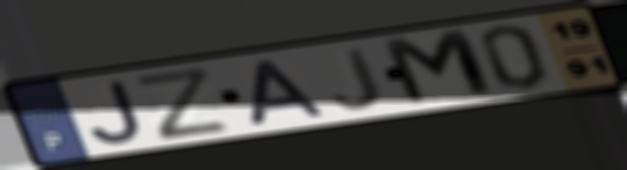0: (477, 22, 554, 92)
A: (246, 57, 331, 128)
J: (86, 78, 148, 146), (329, 45, 385, 112)
M: (377, 26, 503, 110)
Z: (130, 64, 235, 143)
